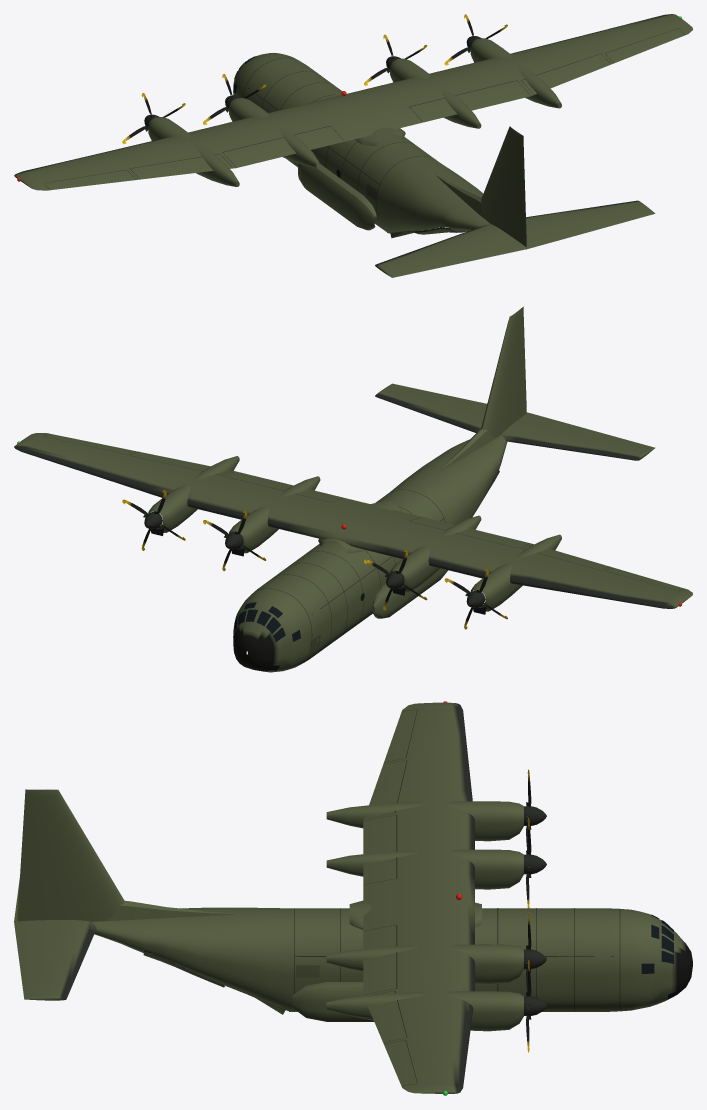
3 views of the same model, one above another, from view 1: azimuth 30°, elevation 25°; view 2: azimuth 150°, elevation 25°; view 3: azimuth 270°, elevation 25° (orthographic). The views are drawn at different scales.
Visible parts, largest first — view 1: C130_Hull; view 2: C130_Hull, C130_Prop_4, C130_Prop_3, C130_Prop_2, C130_Prop_1; view 3: C130_Hull, C130_Prop_4, C130_Prop_2.
Part boxes in pixels (box(x1,y1,x2,y2)): C130_Hull: box(14, 14, 692, 277); C130_Hull: box(14, 306, 692, 672); C130_Prop_4: box(122, 490, 185, 550); C130_Prop_3: box(203, 510, 266, 571); C130_Prop_2: box(364, 549, 427, 610); C130_Prop_1: box(444, 568, 507, 629); C130_Hull: box(14, 701, 692, 1095); C130_Prop_4: box(524, 959, 546, 1052); C130_Prop_2: box(524, 818, 546, 908).
Bounding box in the file's own units: 40.61 × 10.46 × 29.75.
